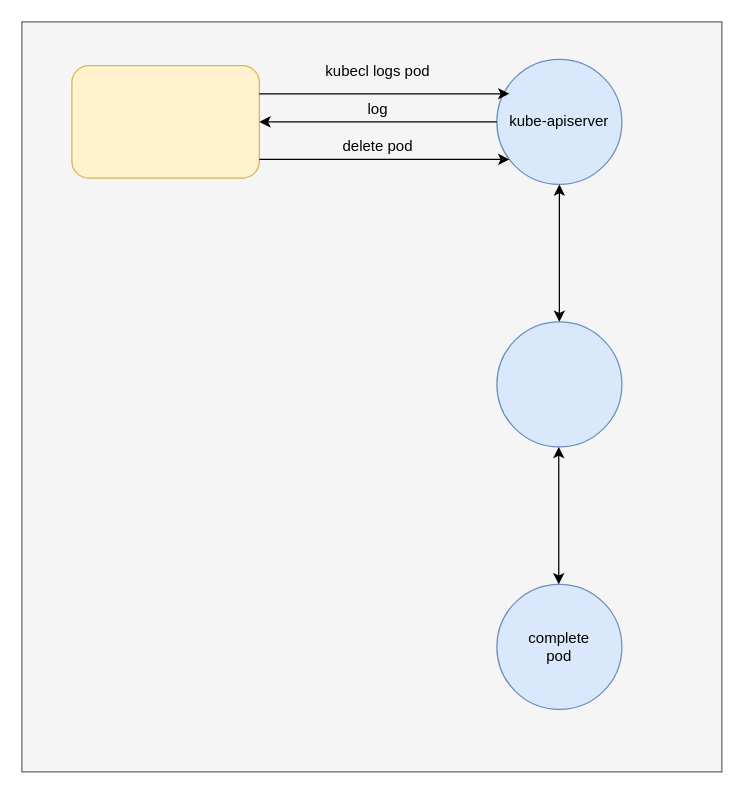
Some shapes in this 744 by 794 pixel diagram are drawn without their labels. Here are the shapes that lost their labels. From the top down, the centre of each, then its label:
At [165,121]: "GPS".
At [559,384]: "kubelet".
